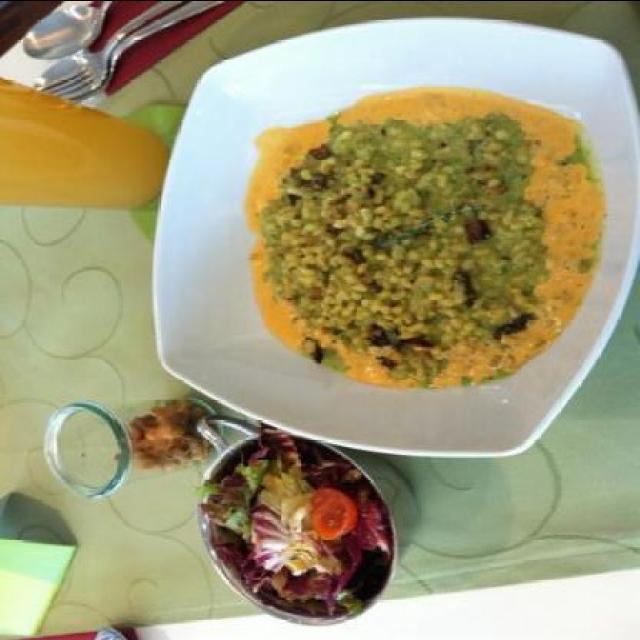Risotto: (251, 62, 587, 372)
